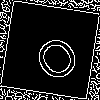O: (25, 25, 84, 86)
